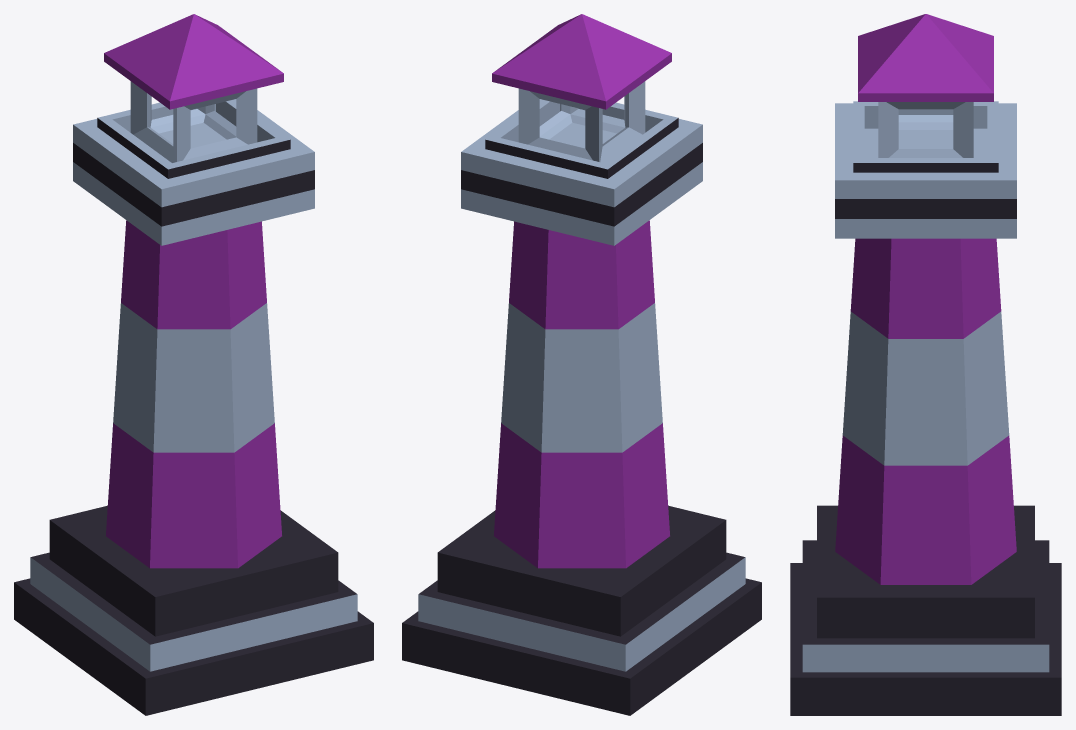
Rendered from Lighthouse.fbx.
The picture shows the model from 3 angles, left to right: view 1: azimuth 30°, elevation 25°; view 2: azimuth 150°, elevation 25°; view 3: azimuth 270°, elevation 25°; orthographic projection. The views are drawn at different scales.
Parts seen in each view (by area): view 1: Cylinder, Cube.004, Cube.002, Cube.001, Cube.003; view 2: Cylinder, Cube.004, Cube.002, Cube.001, Cube.003; view 3: Cylinder, Cube.004, Cube.002, Cube.001, Cube.003.
Boxes of the visible parts, x1,y1,x2,y2 form: Cylinder: (106, 220, 281, 568); Cube.004: (14, 505, 373, 715); Cube.002: (73, 99, 314, 245); Cube.001: (104, 14, 283, 109); Cube.003: (130, 81, 257, 162); Cylinder: (494, 220, 669, 568); Cube.004: (402, 505, 761, 715); Cube.002: (461, 99, 702, 245); Cube.001: (492, 14, 671, 109); Cube.003: (518, 81, 645, 162); Cylinder: (835, 238, 1016, 584); Cube.004: (790, 505, 1061, 715); Cube.002: (835, 101, 1016, 238); Cube.001: (858, 14, 993, 101); Cube.003: (878, 102, 973, 157).
Bounding box in the file's own units: 2469 × 6469 × 2469.
1 material, 1 textured.
